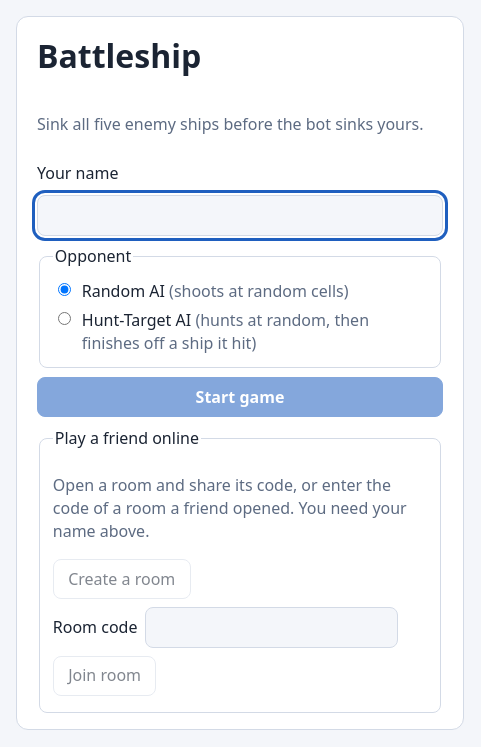
Scenario: StartScreen online room › needs a name for both online buttons and a code to join
The image size is (481, 747).
Expected: the button "Create a room" is disabled, [53, 559, 191, 599]
Expected: the button "Join room" is disabled, [53, 656, 156, 696]
Type "Bob" into the field labelled "Your name" at (240, 215), box [37, 194, 443, 236]
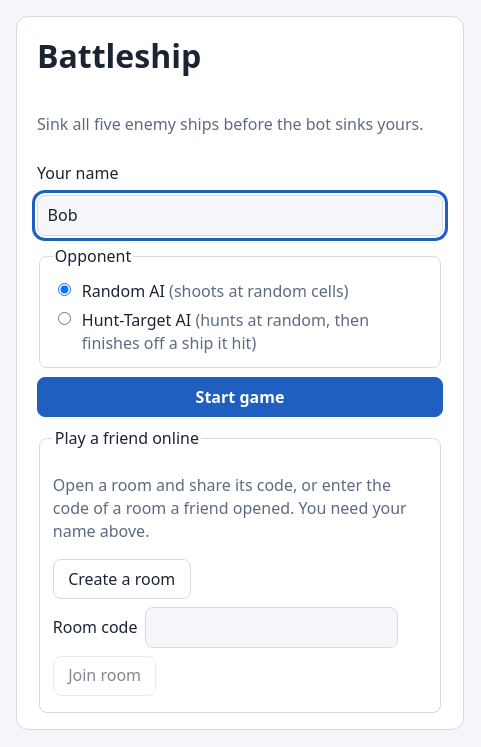
Expected: the button "Join room" is disabled, [53, 656, 156, 696]
Expected: the button "Create a room" is enabled, [53, 559, 191, 599]
Type "K7QF2" into the field labelled "Room code" at (272, 628), box [146, 607, 398, 648]
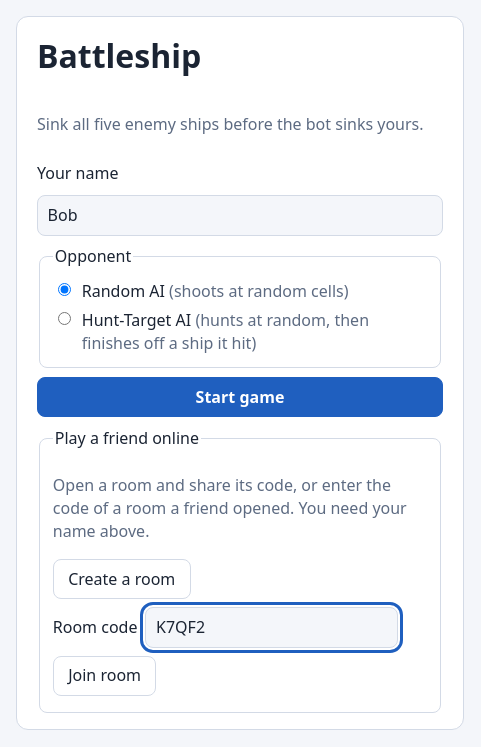
Expected: the button "Join room" is enabled, [53, 656, 156, 696]
